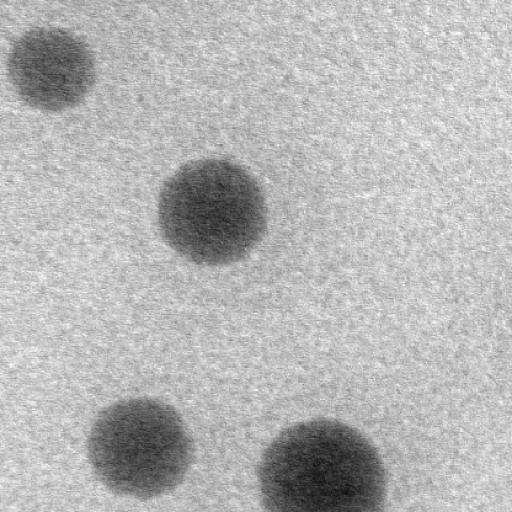Nanoparticles: (155, 156, 270, 266), (259, 417, 385, 512), (86, 395, 195, 499), (6, 24, 98, 110)
